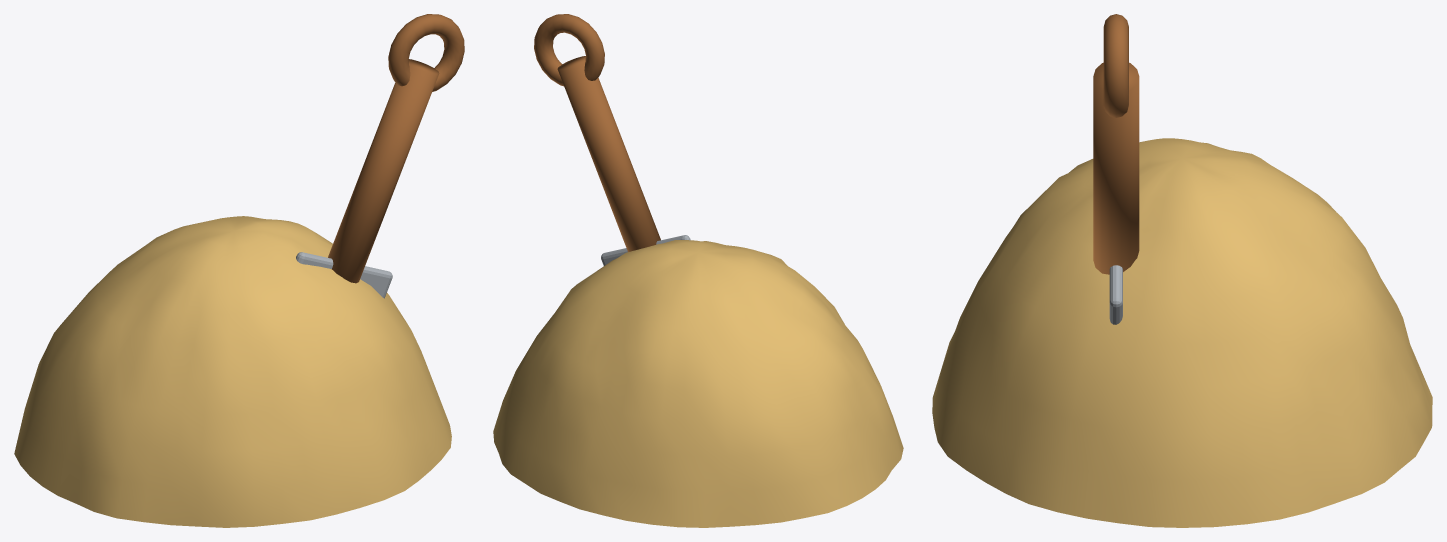
File: material-areia.glb
The picture shows the model from 3 angles, left to right: view 1: azimuth 30°, elevation 25°; view 2: azimuth 150°, elevation 25°; view 3: azimuth 270°, elevation 25°; orthographic projection. The views are drawn at different scales.
Visible parts, largest first — view 1: monte, cabo, punho, lamina; view 2: monte, cabo, punho; view 3: monte, cabo, punho, lamina.
Part boxes in pixels (<box>): monte: <box>14,216,451,527</box>; cabo: <box>328,59,439,283</box>; punho: <box>388,14,464,91</box>; lamina: <box>296,252,392,298</box>; monte: <box>493,240,903,527</box>; cabo: <box>557,56,660,251</box>; punho: <box>534,14,604,86</box>; monte: <box>932,138,1432,527</box>; cabo: <box>1093,62,1139,274</box>; punho: <box>1103,14,1128,117</box>; lamina: <box>1109,265,1122,324</box>.
Bounding box in the file's own units: 1.68 × 1.65 × 1.51.
